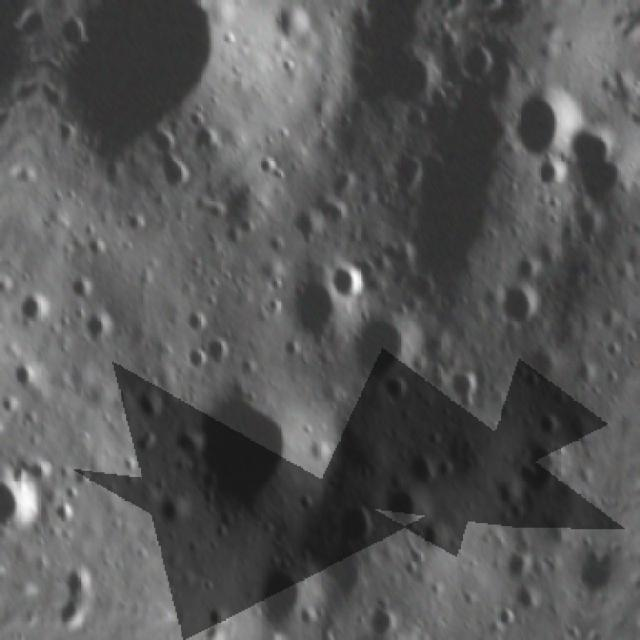crater: (34, 0, 240, 194), (157, 367, 321, 528), (332, 9, 448, 114), (557, 112, 638, 222), (500, 74, 594, 168), (269, 266, 349, 357), (344, 306, 422, 386), (244, 555, 313, 640), (305, 542, 378, 608), (0, 453, 51, 544), (510, 436, 575, 506), (318, 490, 382, 555), (370, 471, 433, 534), (487, 278, 542, 336), (450, 39, 501, 95), (441, 364, 490, 416), (268, 0, 320, 49), (12, 287, 63, 336), (55, 5, 97, 61), (374, 366, 421, 416), (353, 594, 405, 638), (403, 516, 452, 562), (75, 306, 123, 352), (285, 205, 330, 250), (322, 257, 368, 301), (46, 561, 102, 596), (198, 330, 242, 373), (127, 384, 173, 424), (529, 156, 569, 202), (526, 407, 572, 445), (508, 582, 547, 624), (6, 354, 43, 392), (498, 548, 536, 584), (508, 253, 543, 289), (180, 304, 215, 339), (64, 270, 96, 302), (50, 498, 81, 524)
